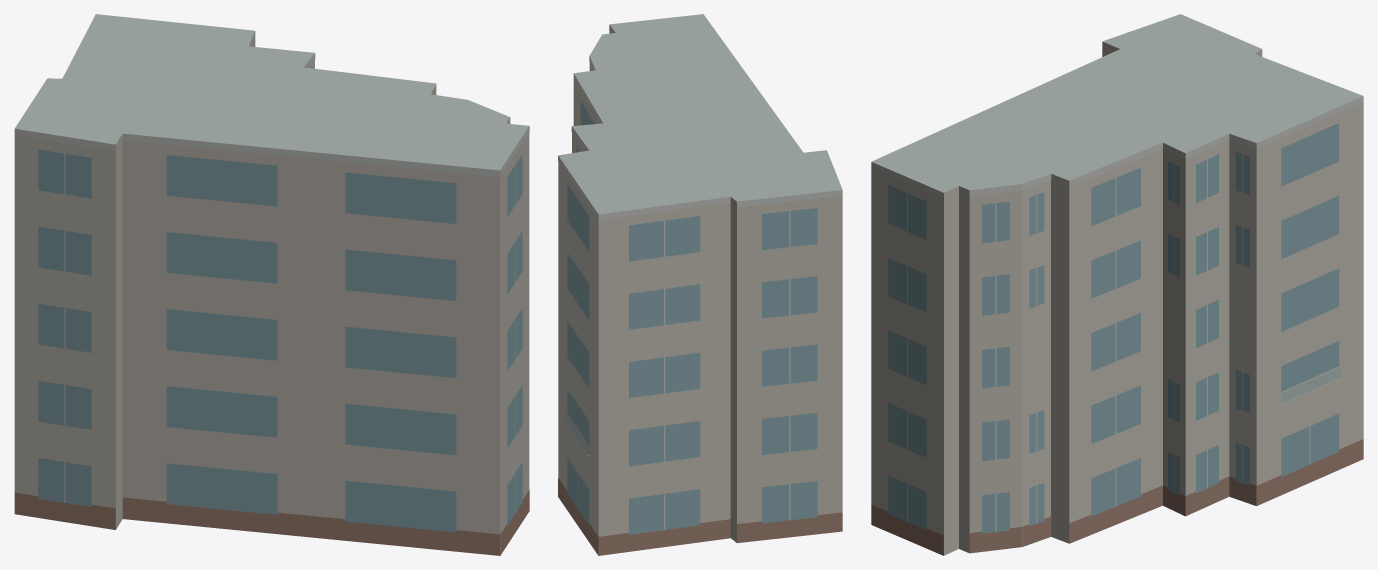
The model's file is survey-upis-32768392.glb.
The picture shows the model from 3 angles, left to right: view 1: azimuth 30°, elevation 25°; view 2: azimuth 150°, elevation 25°; view 3: azimuth 270°, elevation 25°; orthographic projection. The views are drawn at different scales.
Parts seen in each view (by area): view 1: survey-upis-32768392.tmp; view 2: survey-upis-32768392.tmp; view 3: survey-upis-32768392.tmp.
Boxes of the visible parts, <box> form: survey-upis-32768392.tmp: <box>14,14,529,555</box>; survey-upis-32768392.tmp: <box>558,14,842,555</box>; survey-upis-32768392.tmp: <box>871,14,1363,555</box>.
Bounding box in the file's own units: 15.44 × 14.6 × 17.95.
